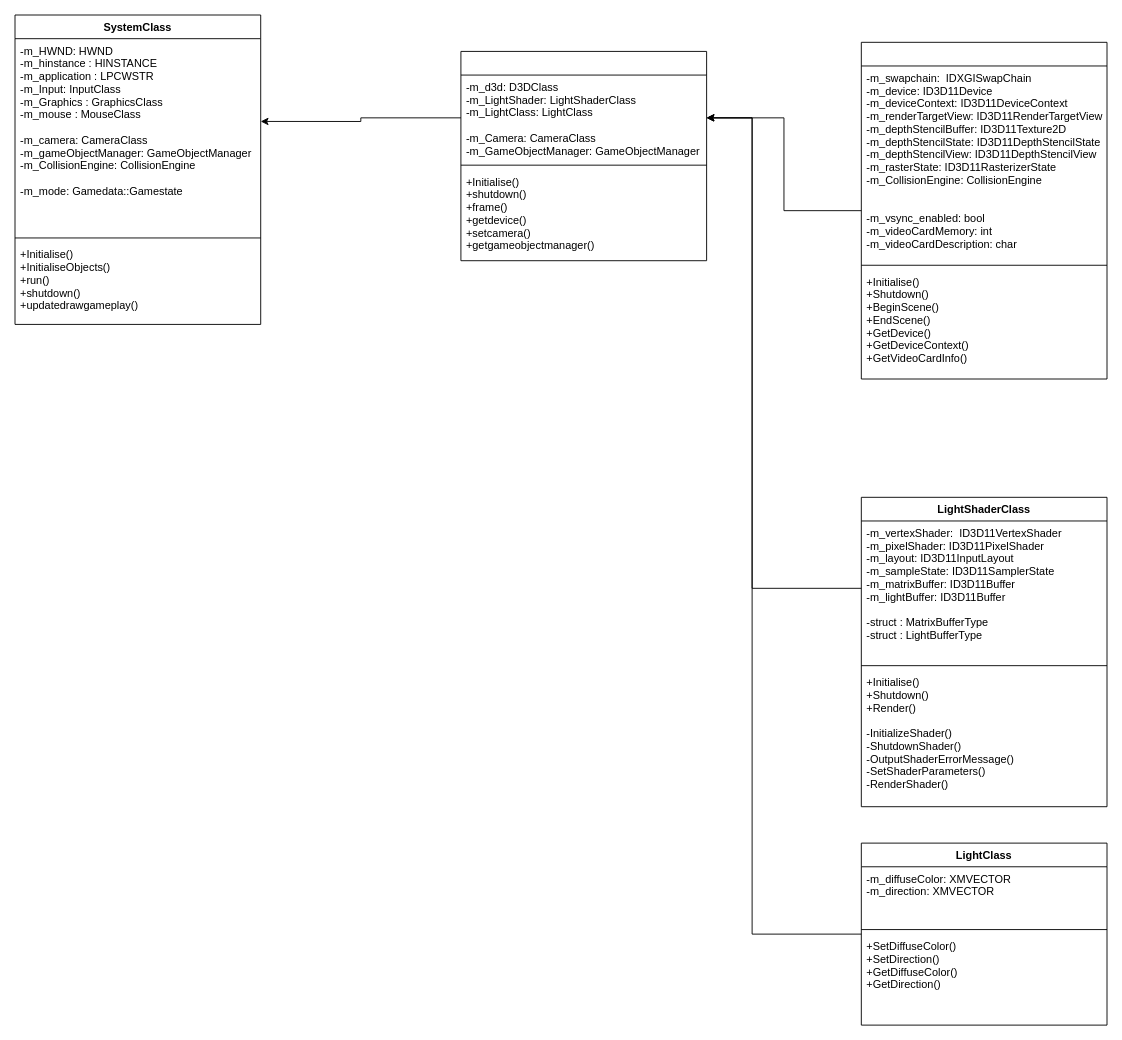
This 1122x1040 diagram has some shape labels left out. The shapes that lost their labels are listed below. From the top down, each one's box as (x1, y1, x2, y2) in pixels, then its label:
(460, 51, 707, 261): Graphics
(860, 41, 1107, 379): D3DClass
